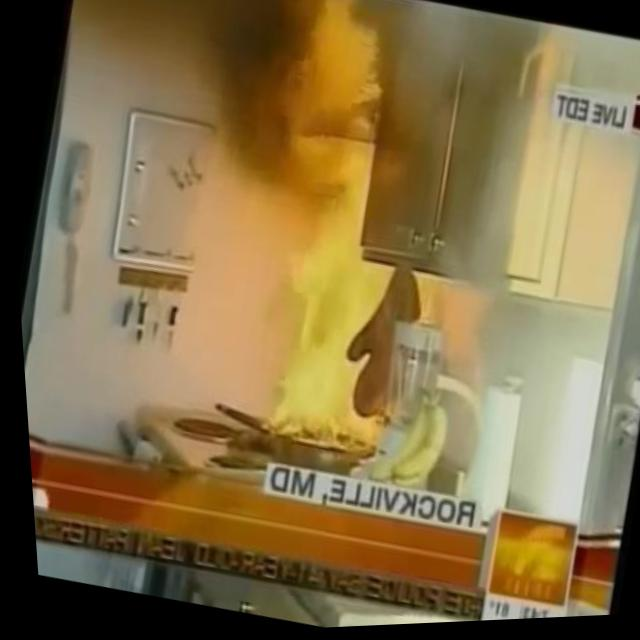fire: (195, 0, 469, 463)
